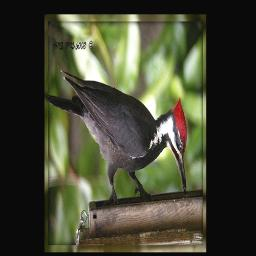Woodpecker: (45, 69, 188, 203)
